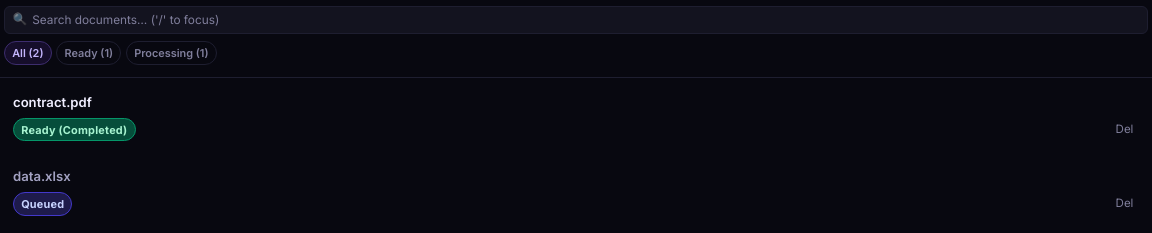
Scenario: filters documents by search query
This screenshot has width=1152, height=233.
Type "contract" into the search field labelled "Search documents… ('/' to focus)" at [576, 20], box [4,6,1148,34]
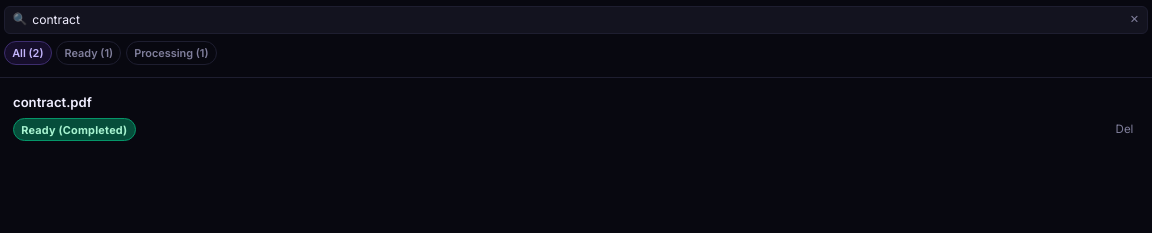
Expected: the button "contract.pdf" is shown, [13,93,1139,113]
Now the button "data.xlsx" is gone
# Clear button appears
Click the button named "clear search query" at [1135, 20], box [1127,11,1142,28]
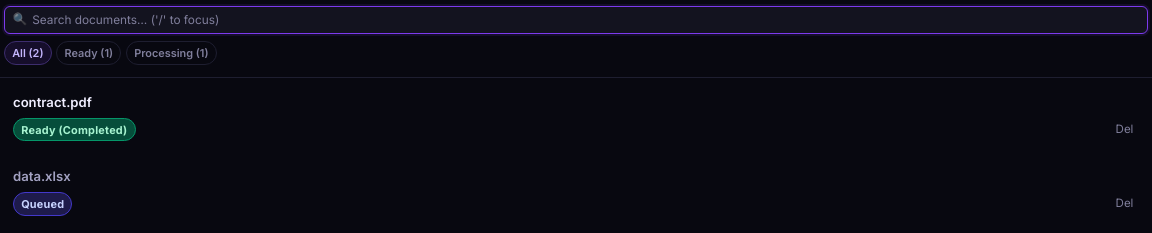
Expected: the button "contract.pdf" is shown, [13,93,1139,113]
Now the button "data.xlsx" is shown, box [13,167,1139,187]
